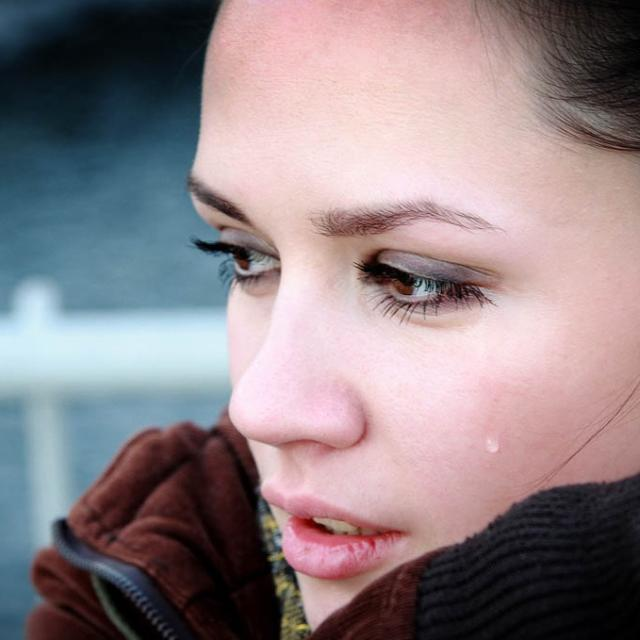Depress: (192, 0, 639, 630)
